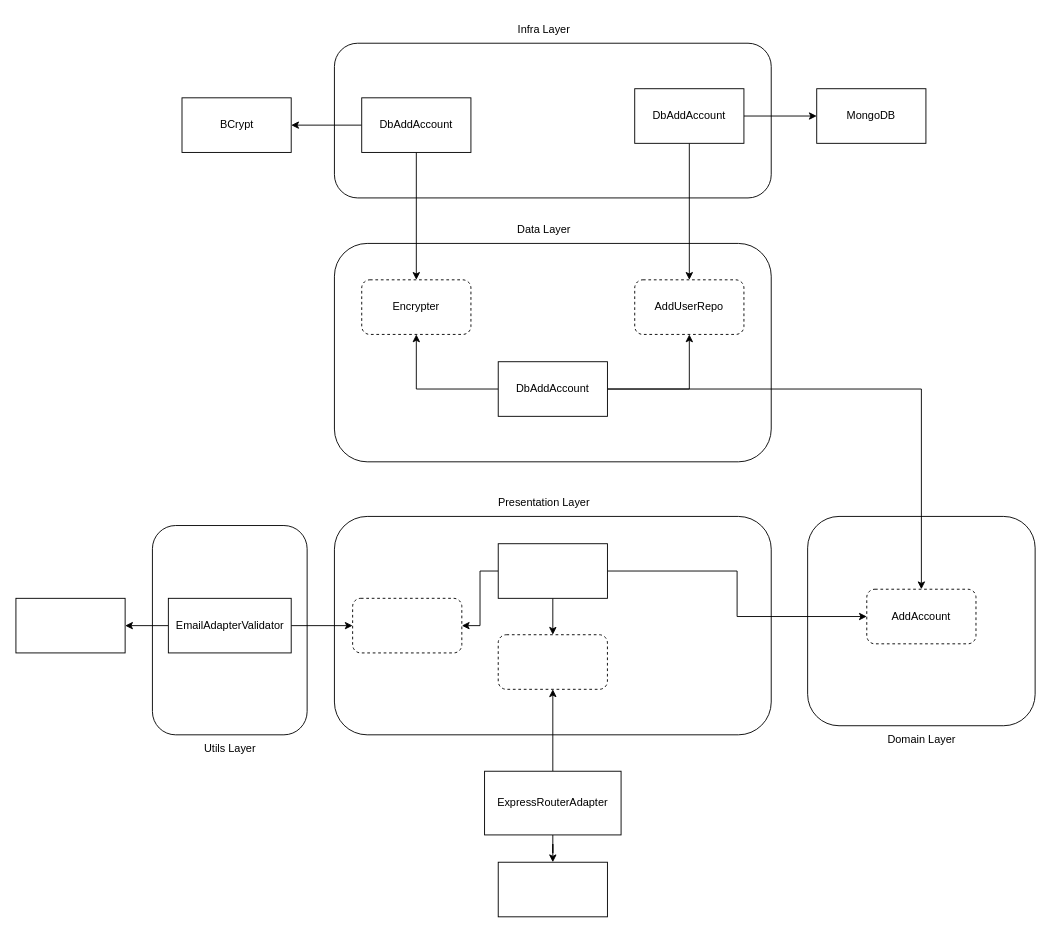
Image size: 1051x933. Some labels were removed from this diagram. Each missing label, with the box of its shape:
Controller: (497, 634, 607, 689)
EmailValidator: (352, 597, 462, 653)
Express: (497, 861, 607, 917)
SignUpController: (497, 543, 607, 598)
Validator: (15, 597, 125, 653)
